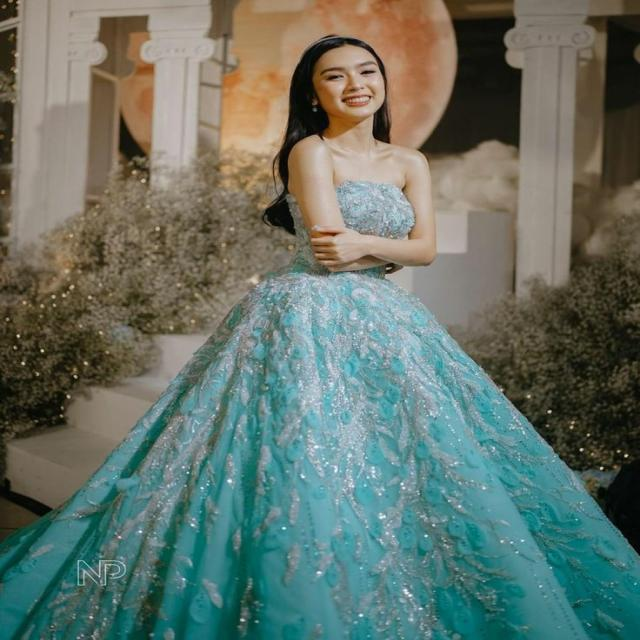female-dress: (43, 190, 640, 639)
